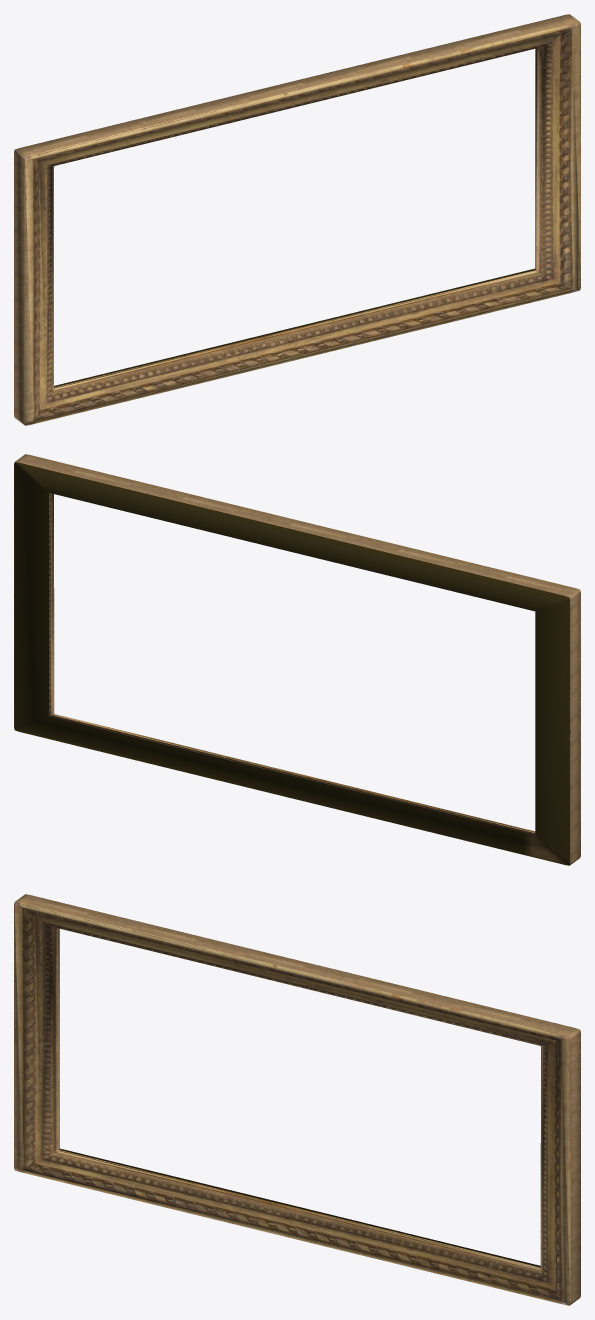
Rendered from second-painting-frame.glb.
3 renders of one model, top to bottom at view 1: azimuth 30°, elevation 25°; view 2: azimuth 150°, elevation 25°; view 3: azimuth 330°, elevation 25°, orthographic.
Parts seen in each view (by area): view 1: fancy_picture_frame_01; view 2: fancy_picture_frame_01; view 3: fancy_picture_frame_01.
Boxes of the visible parts, <box> form: fancy_picture_frame_01: <box>14,14,580,425</box>; fancy_picture_frame_01: <box>14,454,580,865</box>; fancy_picture_frame_01: <box>14,894,580,1305</box>.
Size of the model in its own units: 0.603 by 0.2788 by 0.02.
1 material, 1 textured.
